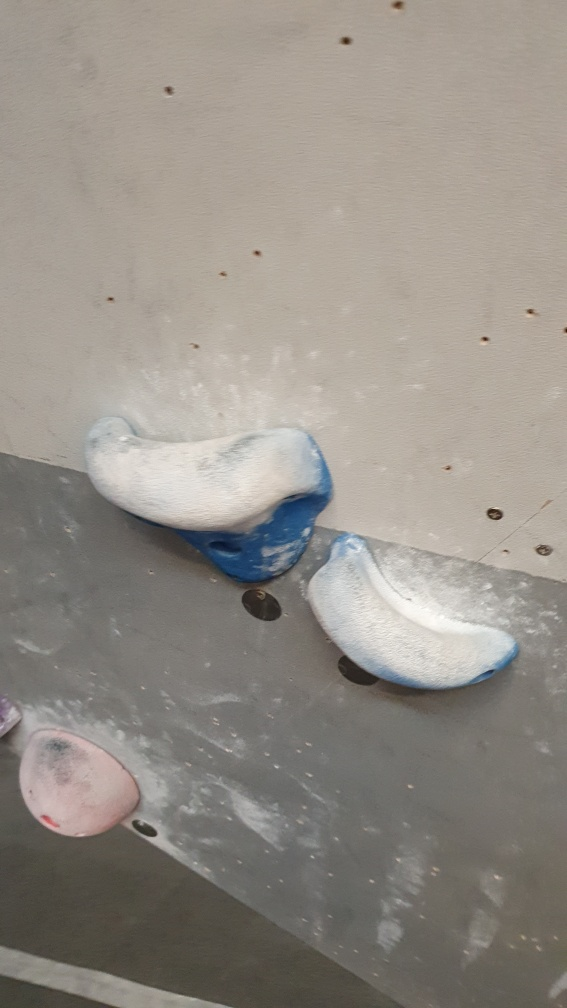Hand Start: (238, 580, 289, 637), (330, 649, 384, 693), (125, 813, 158, 838)
Jug: (79, 409, 336, 587), (312, 532, 520, 696)
Sloper: (20, 726, 143, 843)
